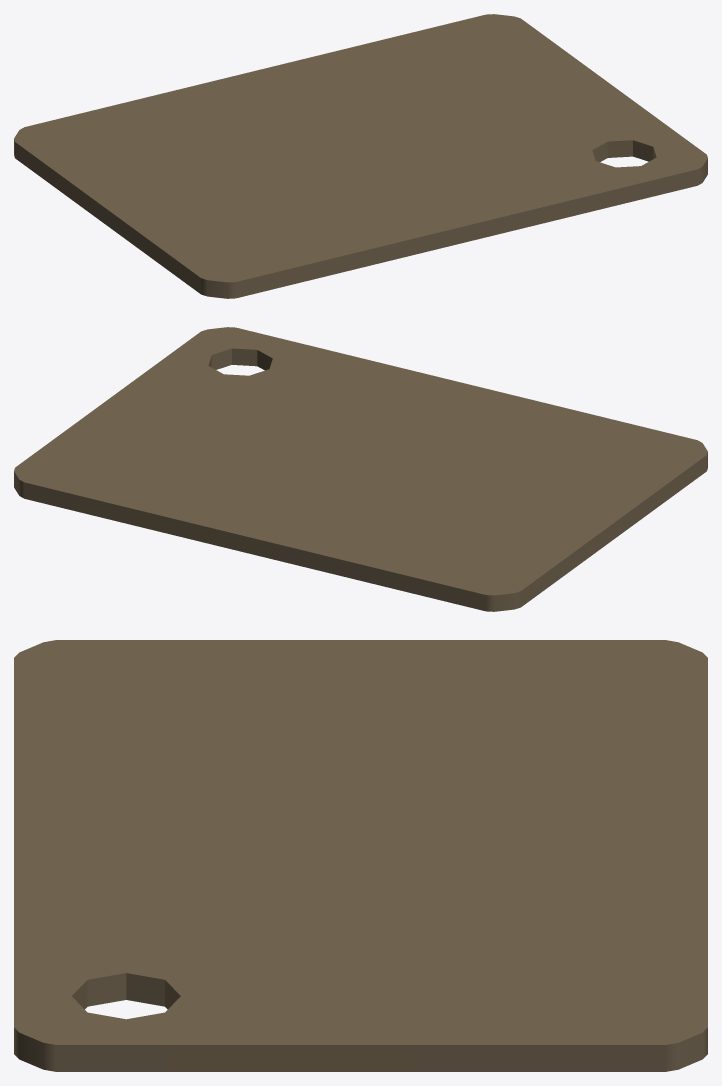
The model's file is Rolling Board.fbx.
3 views of the same model, one above another, from view 1: azimuth 30°, elevation 25°; view 2: azimuth 150°, elevation 25°; view 3: azimuth 270°, elevation 25° (orthographic). The views are drawn at different scales.
Visible parts, largest first — view 1: Rolling_Board; view 2: Rolling_Board; view 3: Rolling_Board.
Part boxes in pixels (x1,y1,x2,y2): Rolling_Board: (14, 14, 707, 298); Rolling_Board: (14, 327, 707, 611); Rolling_Board: (14, 640, 707, 1071).
Size of the model in its own units: 0.6191 by 0.0192 by 0.4484.
